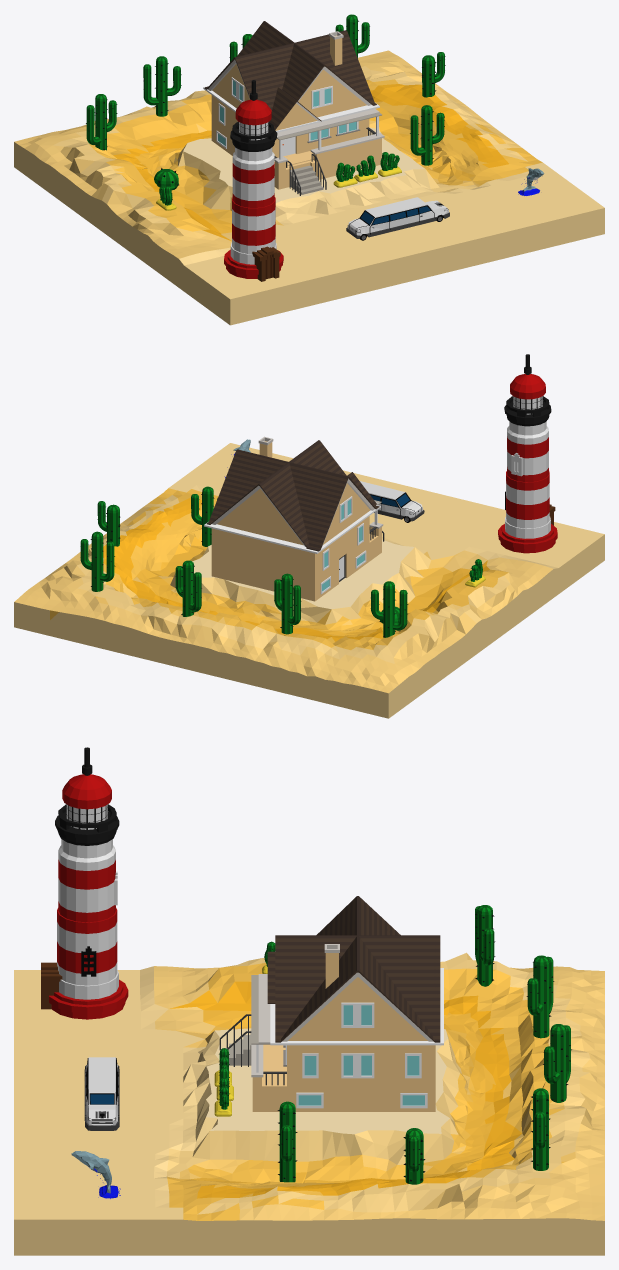
3 renders of one model, top to bottom at view 1: azimuth 30°, elevation 25°; view 2: azimuth 150°, elevation 25°; view 3: azimuth 270°, elevation 25°, orthographic. The views are drawn at different scales.
Visible parts, largest first — view 1: Cube.001, Cube.235, OBJRANDOM_LIGHTHOUSE, VEHICLES_LIMOUSINE, Cylinder.044, Cylinder.037, Cylinder.045, Cylinder.038, Cylinder.042, Cylinder.039, Cylinder.041; view 2: Cube.001, Cube.235, OBJRANDOM_LIGHTHOUSE, Cylinder.042, VEHICLES_LIMOUSINE, Cylinder.045, Cylinder.044, Cylinder.043, Cylinder.037, Cylinder.038; view 3: Cube.001, Cube.235, OBJRANDOM_LIGHTHOUSE, VEHICLES_LIMOUSINE, Cylinder.044, Cylinder.043, Cylinder.045, Cylinder.037, Cylinder.042, Cylinder.038, ANIMAL_DELFIN.
Part boxes in pixels (x1,y1,x2,y2): Cube.001: [14, 50, 604, 325]; Cube.235: [203, 21, 384, 195]; OBJRANDOM_LIGHTHOUSE: [224, 80, 283, 281]; VEHICLES_LIMOUSINE: [346, 197, 449, 240]; Cylinder.044: [143, 56, 181, 116]; Cylinder.037: [410, 105, 444, 165]; Cylinder.045: [86, 94, 117, 150]; Cylinder.038: [422, 52, 445, 97]; Cylinder.042: [335, 14, 369, 58]; Cylinder.039: [333, 162, 357, 187]; Cylinder.041: [378, 152, 401, 176]; Cube.001: [14, 443, 604, 718]; Cube.235: [204, 436, 384, 601]; OBJRANDOM_LIGHTHOUSE: [498, 354, 557, 553]; Cylinder.042: [80, 531, 115, 591]; VEHICLES_LIMOUSINE: [360, 481, 424, 522]; Cylinder.045: [370, 581, 408, 637]; Cylinder.044: [274, 573, 301, 634]; Cylinder.043: [175, 560, 201, 616]; Cylinder.037: [191, 486, 217, 546]; Cylinder.038: [97, 501, 120, 546]; Cube.001: [14, 952, 604, 1255]; Cube.235: [219, 896, 443, 1111]; OBJRANDOM_LIGHTHOUSE: [41, 747, 128, 1019]; VEHICLES_LIMOUSINE: [84, 1057, 119, 1130]; Cylinder.044: [526, 955, 554, 1038]; Cylinder.043: [543, 1024, 571, 1102]; Cylinder.045: [475, 905, 495, 986]; Cylinder.037: [277, 1101, 297, 1182]; Cylinder.042: [531, 1088, 550, 1170]; Cylinder.038: [403, 1128, 425, 1184]; ANIMAL_DELFIN: [71, 1151, 120, 1198].
Size of the model in its own units: 4002 by 2266 by 4001.
Materials: 37 (2 with a texture image).
